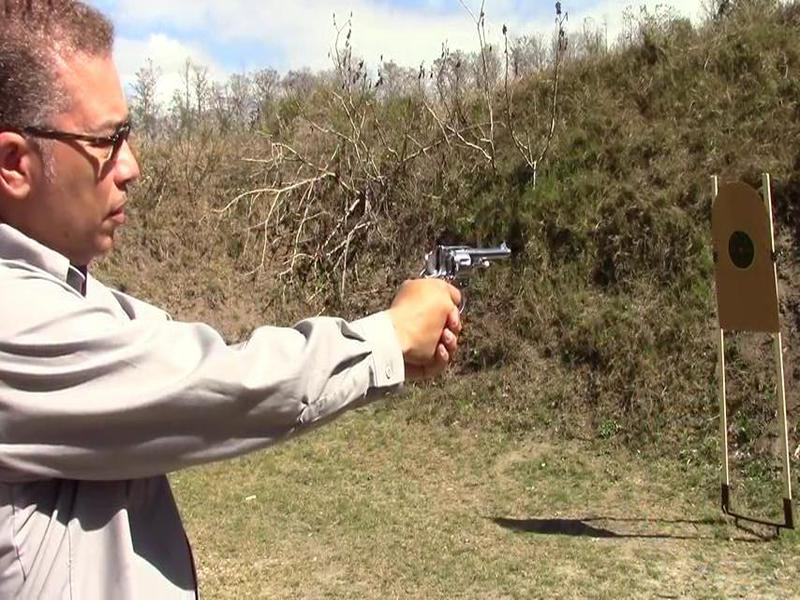Revolver: (407, 230, 527, 335)
